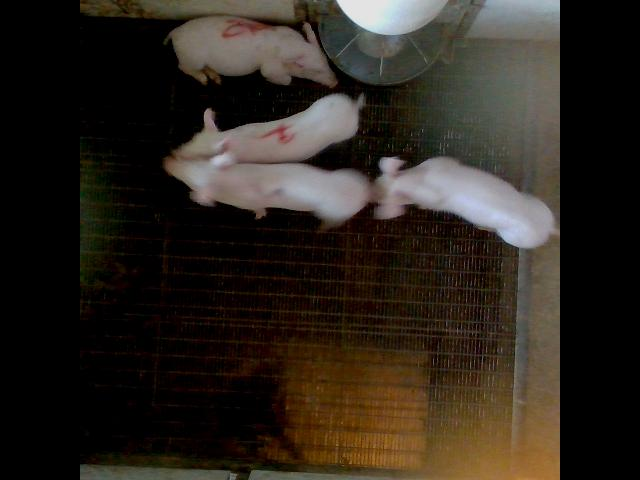pig-2: (164, 151, 371, 222)
pig-4: (174, 92, 363, 162)
pig-5: (165, 15, 337, 86)
